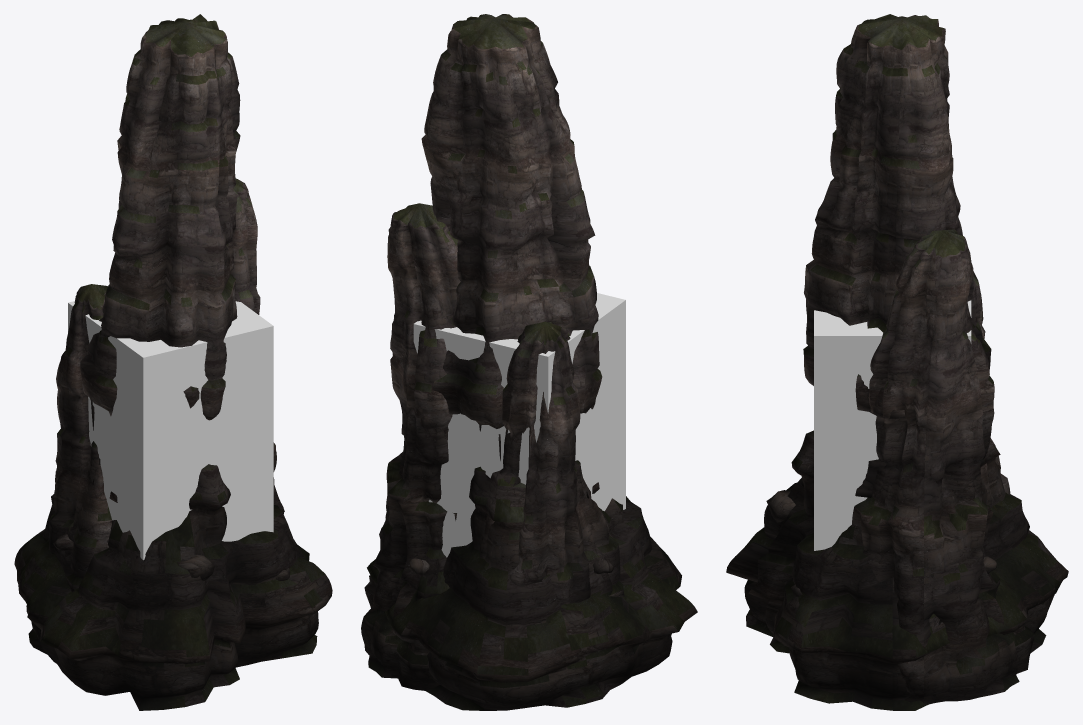
The model's file is rock_spire_bare_16m.glb.
The picture shows the model from 3 angles, left to right: view 1: azimuth 30°, elevation 25°; view 2: azimuth 150°, elevation 25°; view 3: azimuth 270°, elevation 25°; orthographic projection. The views are drawn at different scales.
Parts seen in each view (by area): view 1: rock_spire_bare_16m, col_block_spire; view 2: rock_spire_bare_16m, col_block_spire; view 3: rock_spire_bare_16m, col_block_spire.
Boxes of the visible parts, x1,y1,x2,y2 form: rock_spire_bare_16m: (14,14,332,710); col_block_spire: (68,301,273,560); rock_spire_bare_16m: (361,14,697,710); col_block_spire: (413,293,625,557); rock_spire_bare_16m: (726,14,1068,710); col_block_spire: (814,300,971,550).
Size of the model in its own units: 10.78 by 22.35 by 10.9.
2 materials, 2 textured.
